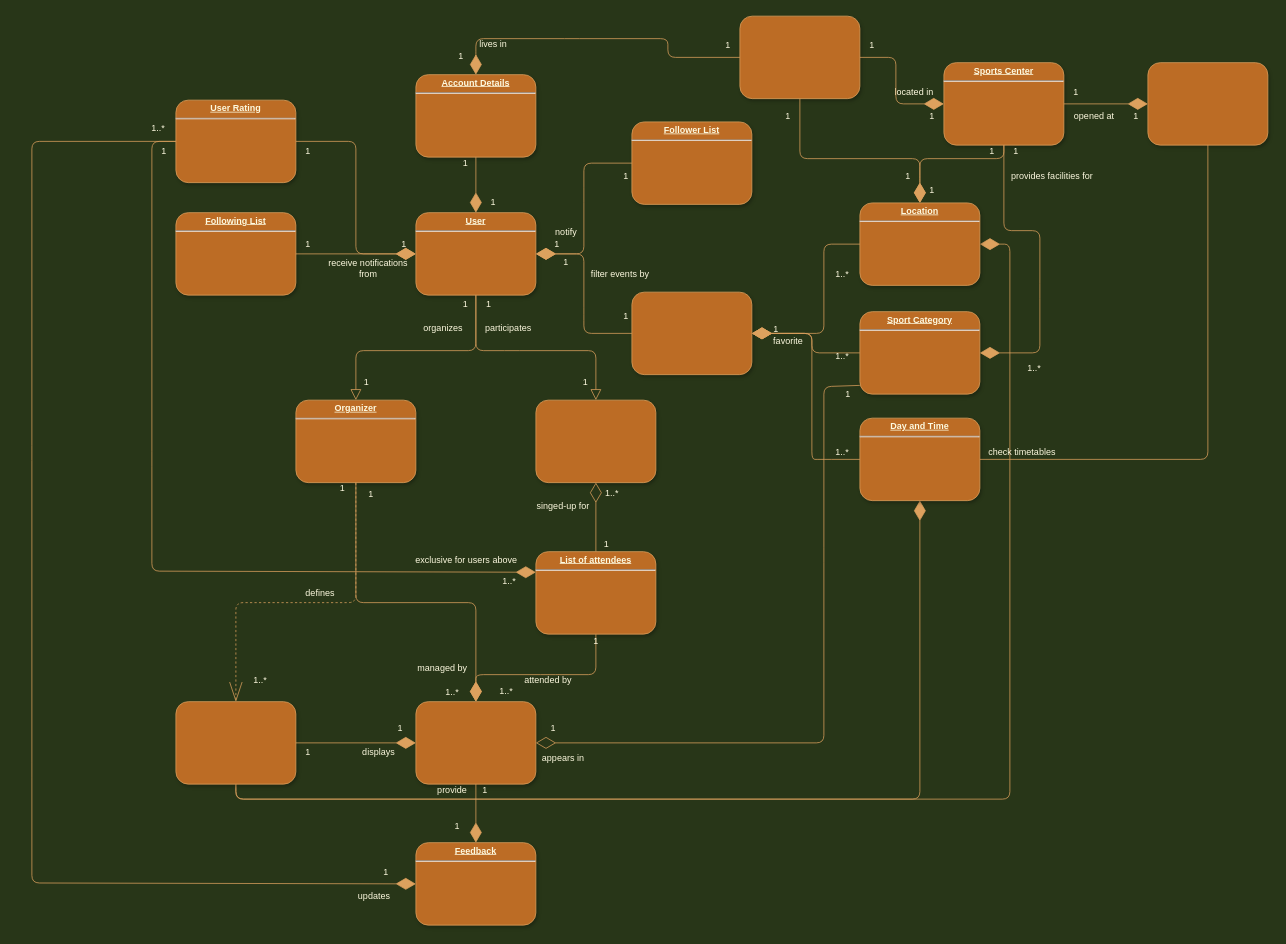
Some shapes in this 1286 by 944 pixel diagram are drawn without their labels. The centre of each missing label's shape, as x and y in pixels:
"Business Hours" belongs at pixel 1208 104.
"City" belongs at pixel 800 58.
"Event" belongs at pixel 476 743.
"Event Details" belongs at pixel 236 743.
"Participant" belongs at pixel 596 442.
"Preferences" belongs at pixel 692 334.
